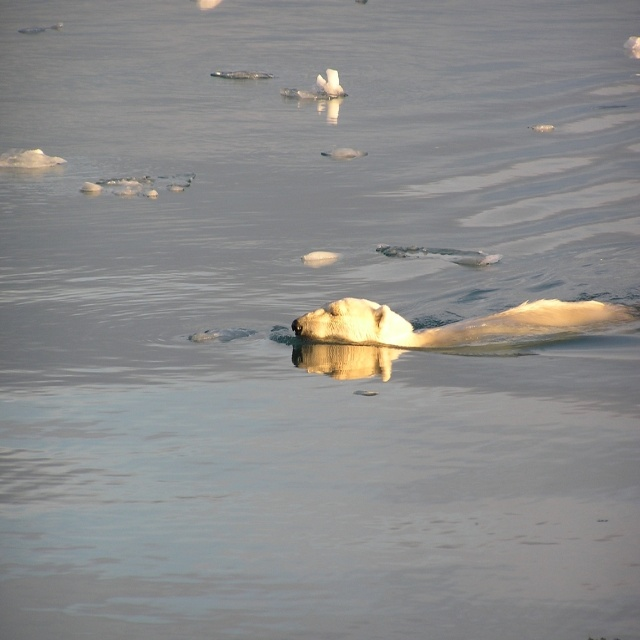Polar bear: (290, 297, 631, 346)
